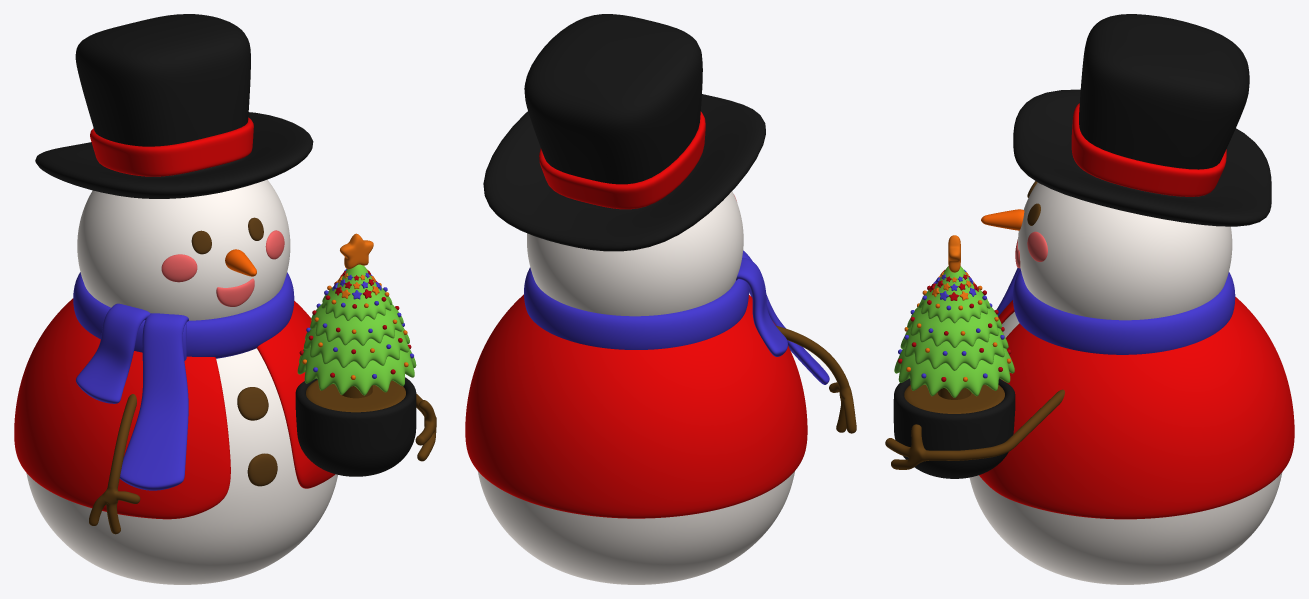
Rendered from snow man.glb.
3 views of the same model, side by side, from view 1: azimuth 30°, elevation 25°; view 2: azimuth 150°, elevation 25°; view 3: azimuth 270°, elevation 25° (orthographic).
Visible parts, largest first — view 1: Hat, Shirt, Snow.001, Snow, Circle.001, Gucci, Shawl, Cube.003, Circle.005, Leaf.002, Hand, Leaf.001 (+9 smaller); view 2: Shirt, Hat, Snow.001, Snow, Shawl, Cube.003, Circle.005, Hand, Circle.001; view 3: Shirt, Hat, Snow, Snow.001, Shawl, Gucci, Cube.003, Leaf.002, Hand, Leaf.001, Leaf, Leaf.003 (+2 smaller).
Part boxes in pixels (x1,y1,x2,y2): Hat: [35, 14, 313, 198]; Shirt: [14, 298, 335, 519]; Snow.001: [26, 348, 337, 584]; Snow: [77, 179, 290, 320]; Circle.001: [119, 313, 188, 490]; Gucci: [295, 377, 416, 476]; Shawl: [73, 272, 294, 358]; Cube.003: [90, 117, 253, 176]; Circle.005: [76, 303, 150, 403]; Leaf.002: [297, 347, 416, 395]; Hand: [89, 393, 436, 534]; Leaf.001: [303, 325, 409, 368]; Shirt: [465, 294, 807, 518]; Hat: [483, 14, 765, 251]; Snow.001: [477, 471, 794, 584]; Snow: [527, 191, 743, 316]; Shawl: [524, 267, 748, 349]; Cube.003: [539, 111, 705, 209]; Circle.005: [736, 257, 787, 356]; Hand: [776, 325, 856, 433]; Circle.001: [742, 250, 829, 384]; Shirt: [979, 297, 1294, 519]; Hat: [1013, 14, 1271, 226]; Snow: [1018, 182, 1232, 320]; Snow.001: [969, 312, 1282, 584]; Shawl: [1013, 269, 1235, 354]; Gucci: [893, 378, 1015, 478]; Cube.003: [1071, 103, 1226, 196]; Leaf.002: [894, 348, 1014, 397]; Hand: [885, 389, 1064, 469]; Leaf.001: [900, 328, 1008, 370]; Leaf: [907, 306, 1001, 347]; Leaf.003: [918, 266, 990, 323].
Bounding box in the file's own units: 1.61 × 2.55 × 1.81.
